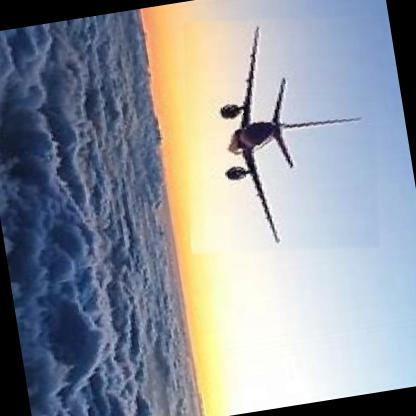plane: (162, 0, 400, 269)
